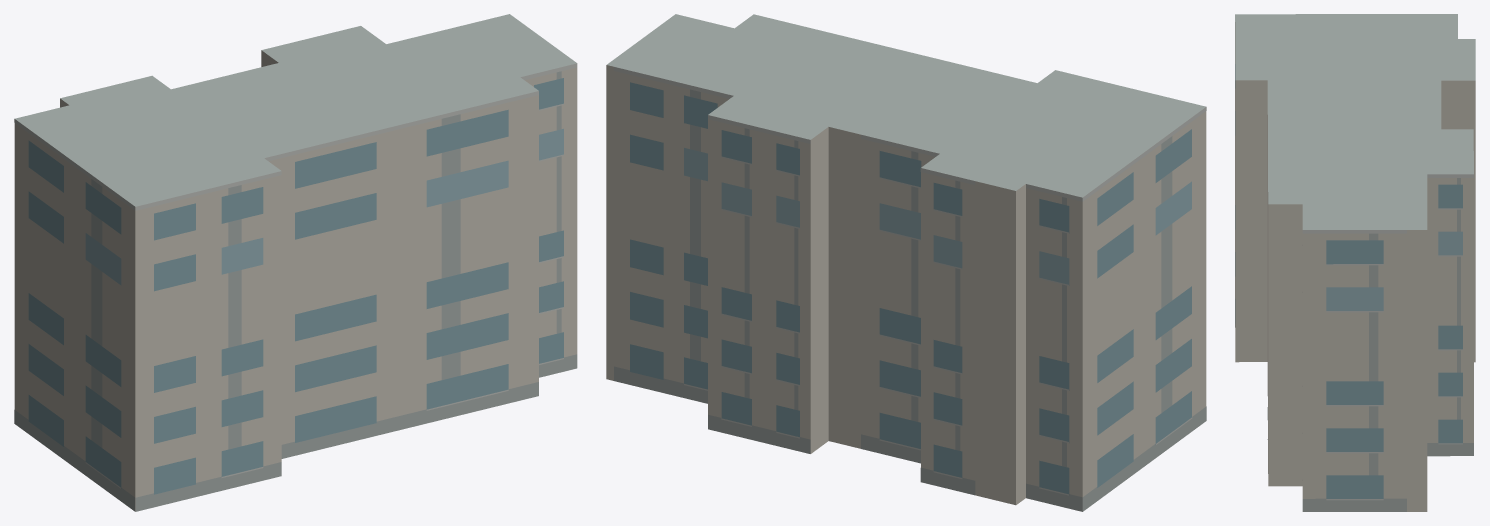
Rendered from survey-upis-33042774.glb.
3 renders of one model, left to right at view 1: azimuth 30°, elevation 25°; view 2: azimuth 150°, elevation 25°; view 3: azimuth 270°, elevation 25°, orthographic. The views are drawn at different scales.
Visible parts, largest first — view 1: survey-upis-33042774.tmp; view 2: survey-upis-33042774.tmp; view 3: survey-upis-33042774.tmp.
Boxes of the visible parts, x1,y1,x2,y2 form: survey-upis-33042774.tmp: [14, 14, 577, 511]; survey-upis-33042774.tmp: [606, 14, 1206, 511]; survey-upis-33042774.tmp: [1235, 14, 1475, 511].
Size of the model in its own units: 30.08 by 18.3 by 14.17.
